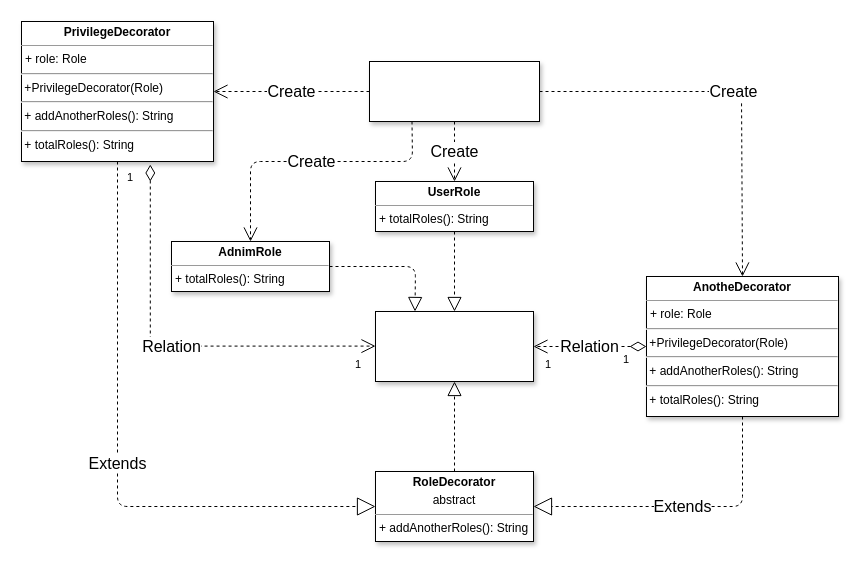
The diagram is 862 pixels wide and 566 high, and some of its shapes have lost their labels. The shapes that lost their labels are listed below. From the top down, each one's centre as x and y in pixels, then its label:
At (455,92): "CompositePatternsMain + main(args: String[]) void".
At (455,347): "<<Interface>> Role + totalRoles(): String".
